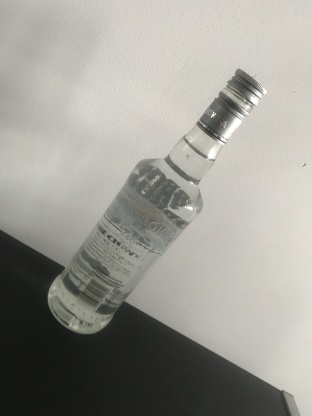nakretka: (194, 65, 268, 147)
